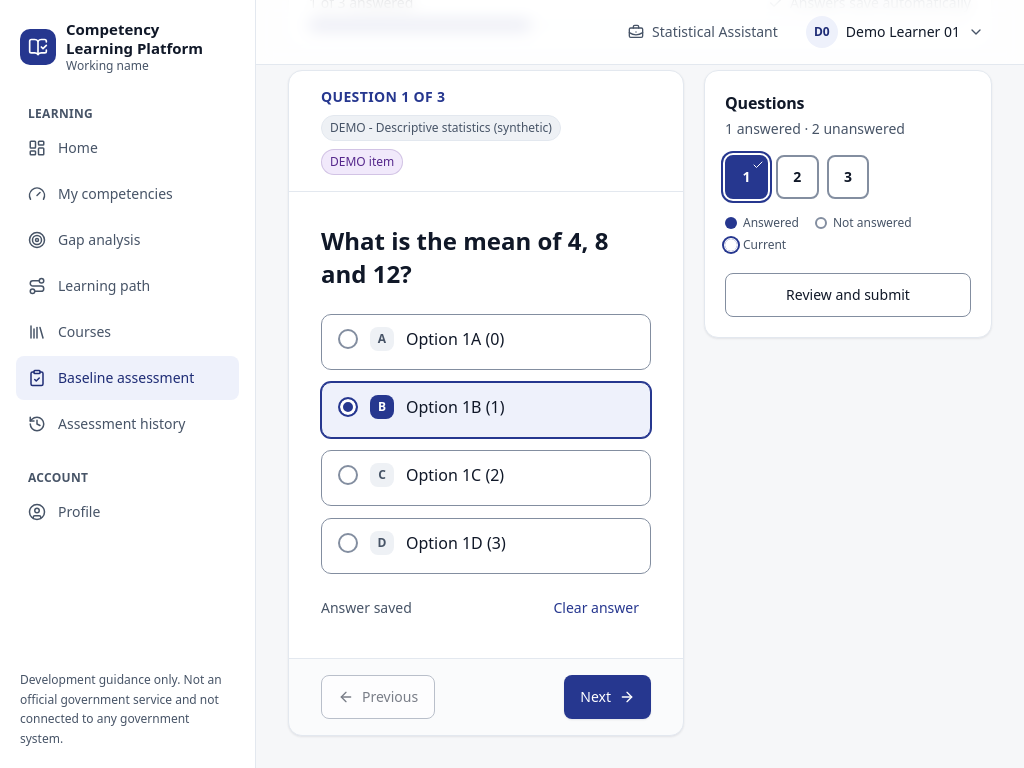
taking an assessment › shows one question at a time with previous/next, the grid and saved answers
(page scrolled)
Expected: the heading "Question 1 of 3" is shown, [321, 87, 445, 107]
Expected: the element "What is the mean of 4, 8 and 12?" is shown, [321, 224, 651, 626]
Step 1. Click the button "Next" → [608, 697], box [564, 675, 651, 719]
(page scrolled)
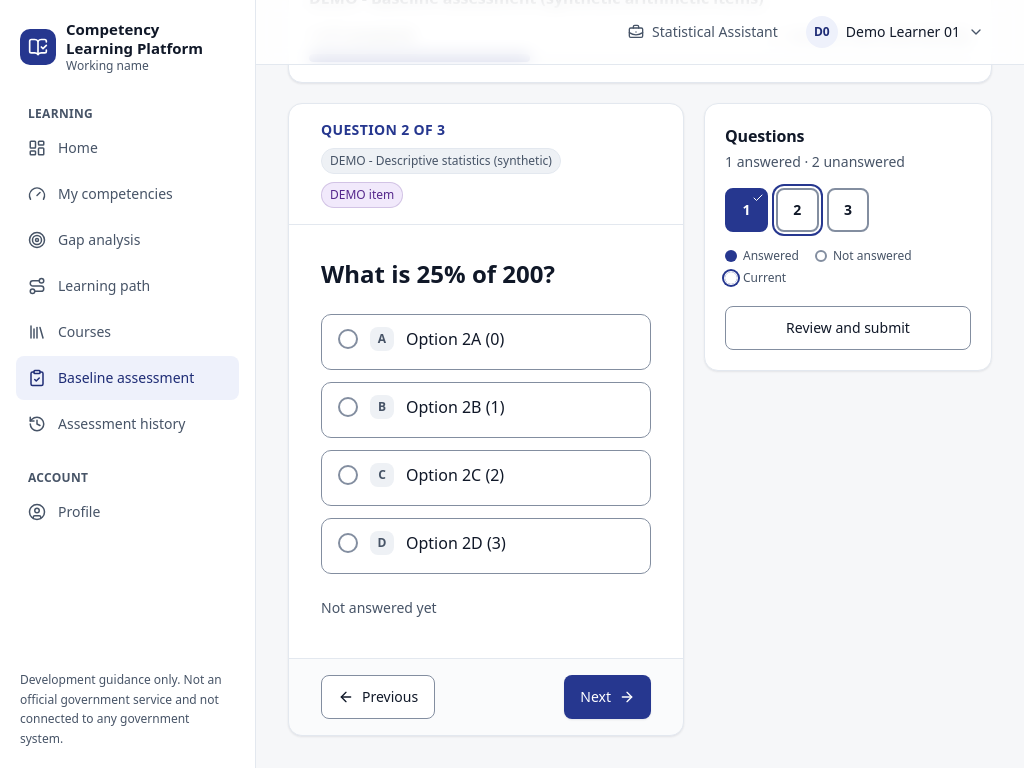
Step 2. Click the radio button labelled "C Option 2C (2)" → [348, 475], box [338, 465, 358, 485]
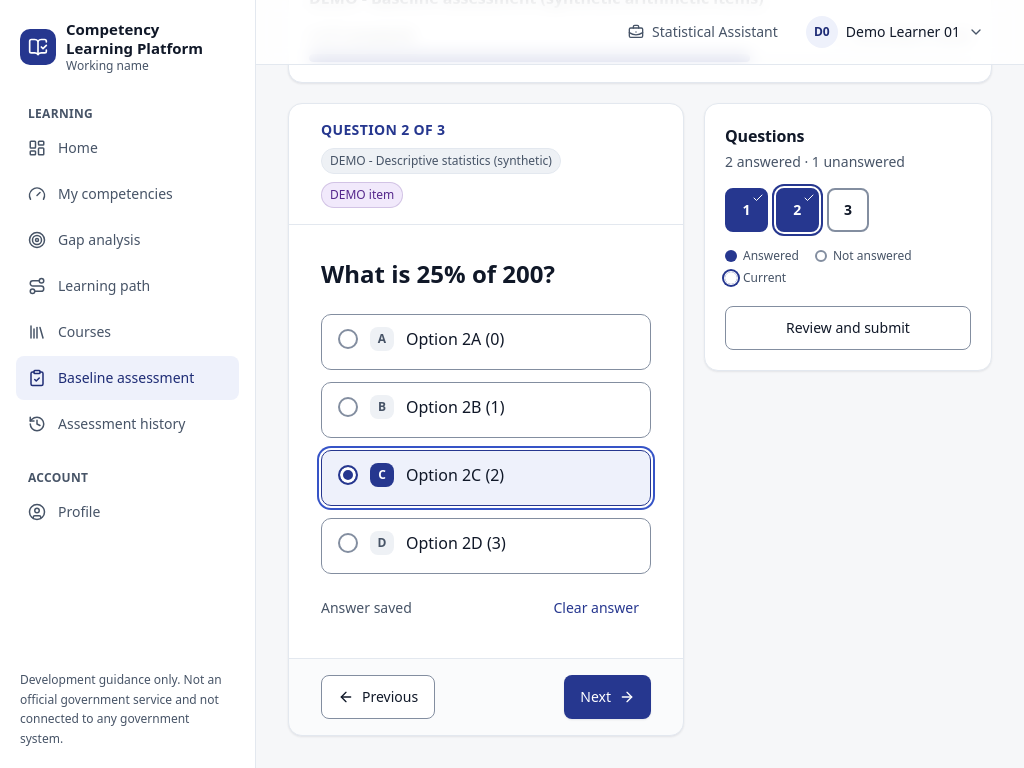
Expected: the message reads "All answers saved", [855, 26, 971, 45]
Now the heading "Question 2 of 3" is shown, box [321, 120, 445, 140]
Now the button named "Question 2, answered, current" is shown, box [776, 188, 819, 232]
Step 3. Click the button named "Question 3, not answered" → [848, 210], box [827, 188, 869, 232]
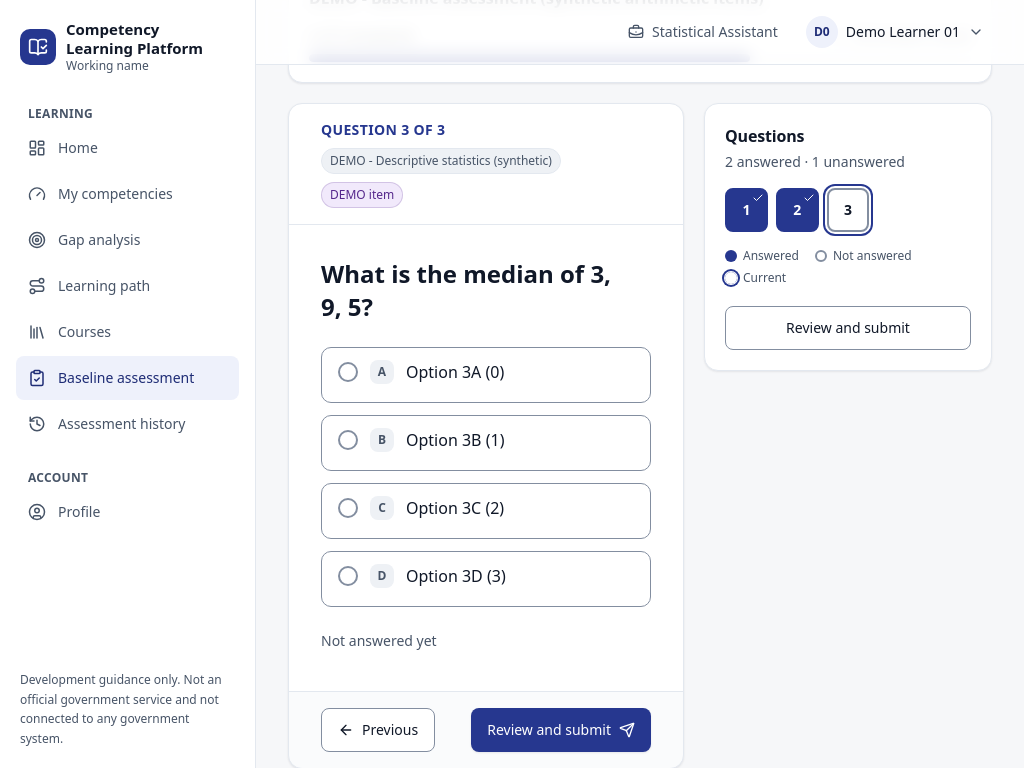
Now the heading "Question 3 of 3" is shown, box [321, 120, 445, 140]
Now the button "Review and submit" below "Not answered yet" is shown, box [471, 708, 651, 752]
